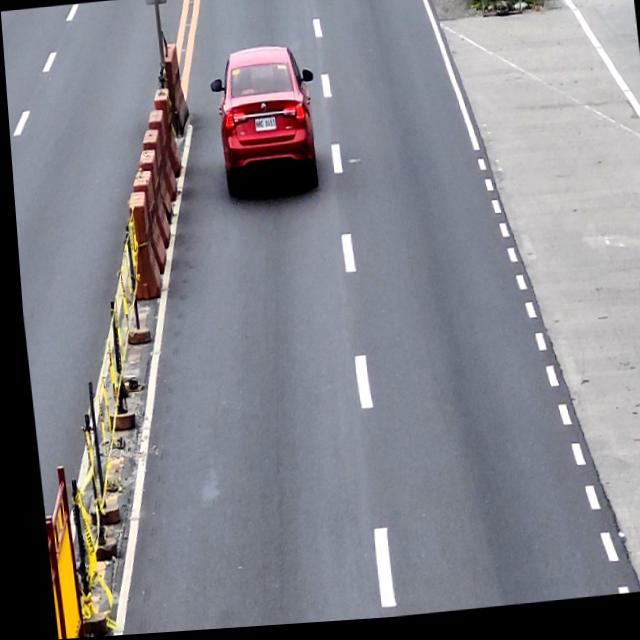Car: (205, 46, 321, 199)
License-Plate: (251, 120, 274, 136)
